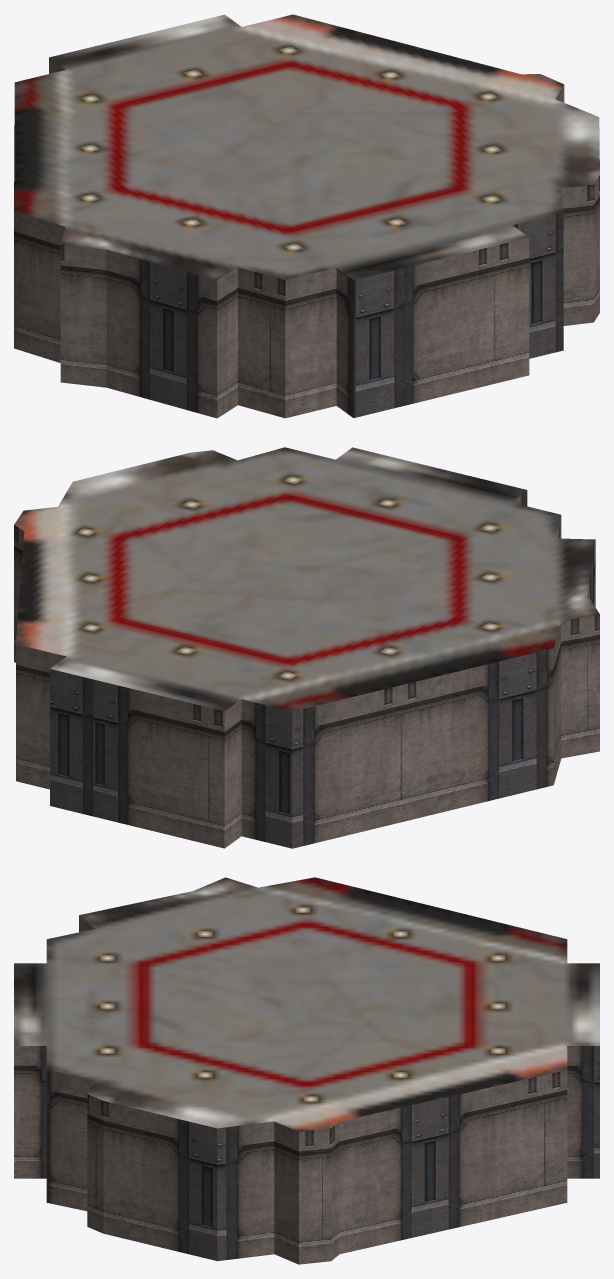
Rendered from bsealed_medium_29.glb.
3 renders of one model, top to bottom at view 1: azimuth 30°, elevation 25°; view 2: azimuth 150°, elevation 25°; view 3: azimuth 270°, elevation 25°, orthographic. The views are drawn at different scales.
Parts seen in each view (by area): view 1: buildings/saxarba/bsealed_medium/bsealed_medium_29; view 2: buildings/saxarba/bsealed_medium/bsealed_medium_29; view 3: buildings/saxarba/bsealed_medium/bsealed_medium_29.
Part boxes in pixels (x1=…): buildings/saxarba/bsealed_medium/bsealed_medium_29: x1=14, y1=14, x2=599, y2=418; buildings/saxarba/bsealed_medium/bsealed_medium_29: x1=14, y1=447, x2=599, y2=848; buildings/saxarba/bsealed_medium/bsealed_medium_29: x1=14, y1=877, x2=599, y2=1264.
Size of the model in its own units: 74 by 18 by 72.
